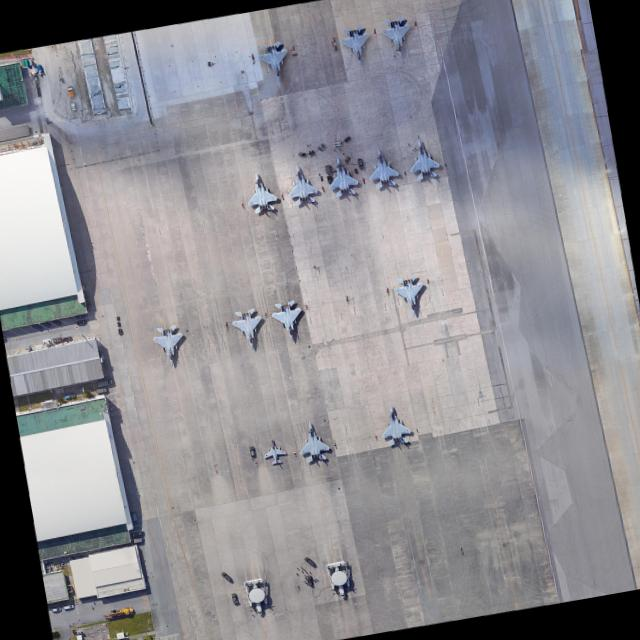large-vehicle: (218, 569, 232, 581), (301, 554, 314, 565), (228, 591, 238, 603), (65, 84, 73, 96), (305, 574, 312, 585), (247, 444, 254, 455), (69, 100, 76, 110)
plane: (290, 416, 337, 467), (399, 131, 444, 181), (268, 295, 308, 344), (374, 399, 414, 447), (280, 160, 321, 205), (390, 271, 430, 317), (321, 152, 361, 197), (361, 142, 400, 188), (240, 169, 280, 213), (148, 322, 188, 366), (228, 304, 266, 349), (377, 14, 416, 57), (253, 38, 292, 81), (335, 23, 374, 65), (321, 557, 359, 599), (239, 574, 274, 616), (258, 435, 287, 466)
small-vehicle: (62, 603, 73, 609), (50, 607, 60, 612)
